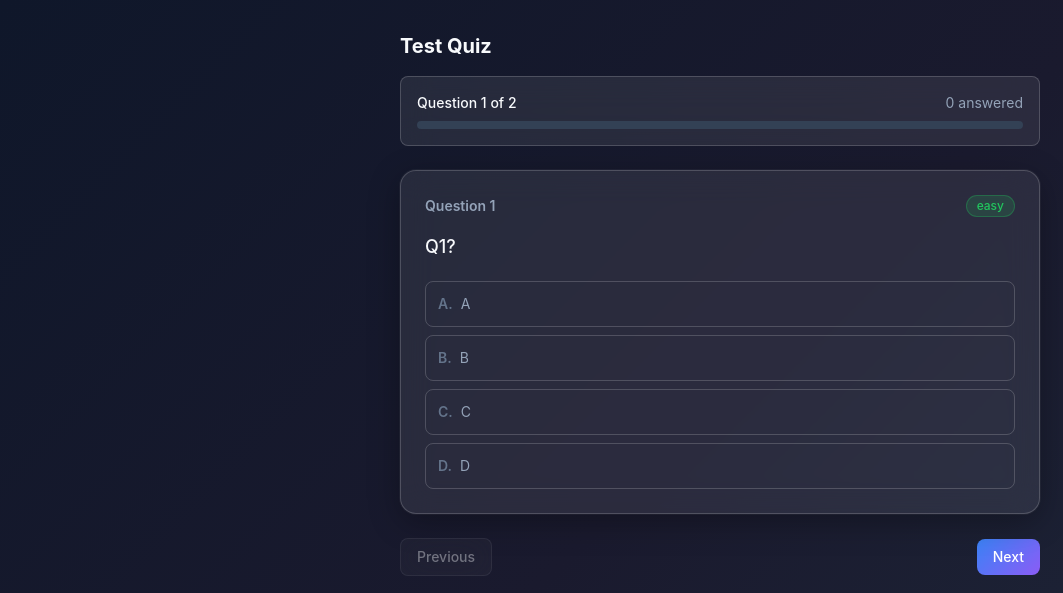
Test: QuizPage › shows submit button on last question
Expected: the text "Q1?" is shown, [425,236,456,257]
Click the button "Next".
click(1008, 557)  # box [977,539,1040,575]
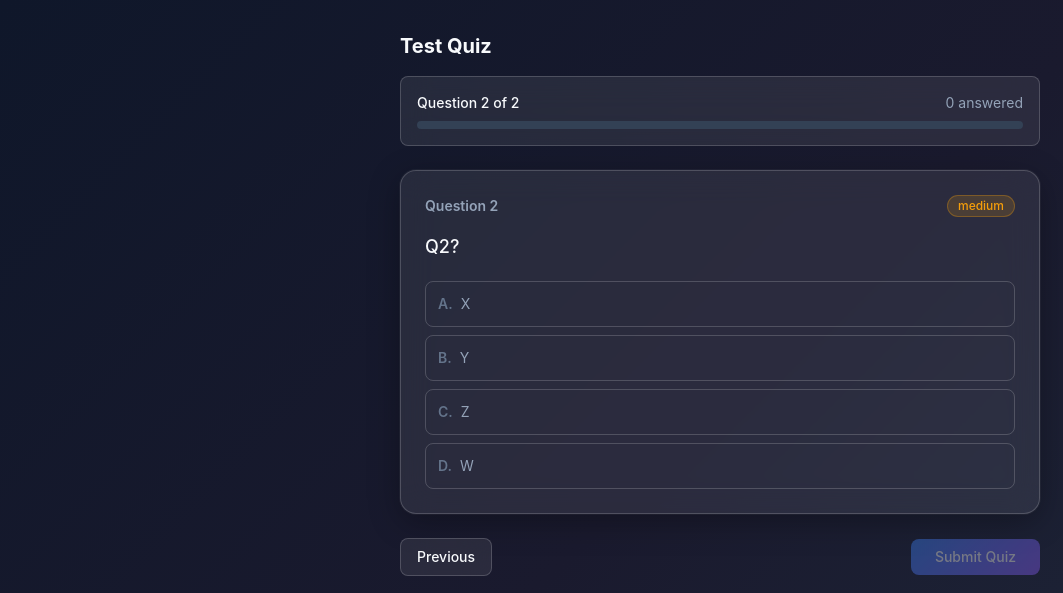
Expected: the button with test id "submit-quiz" is shown, [911,539,1040,575]
